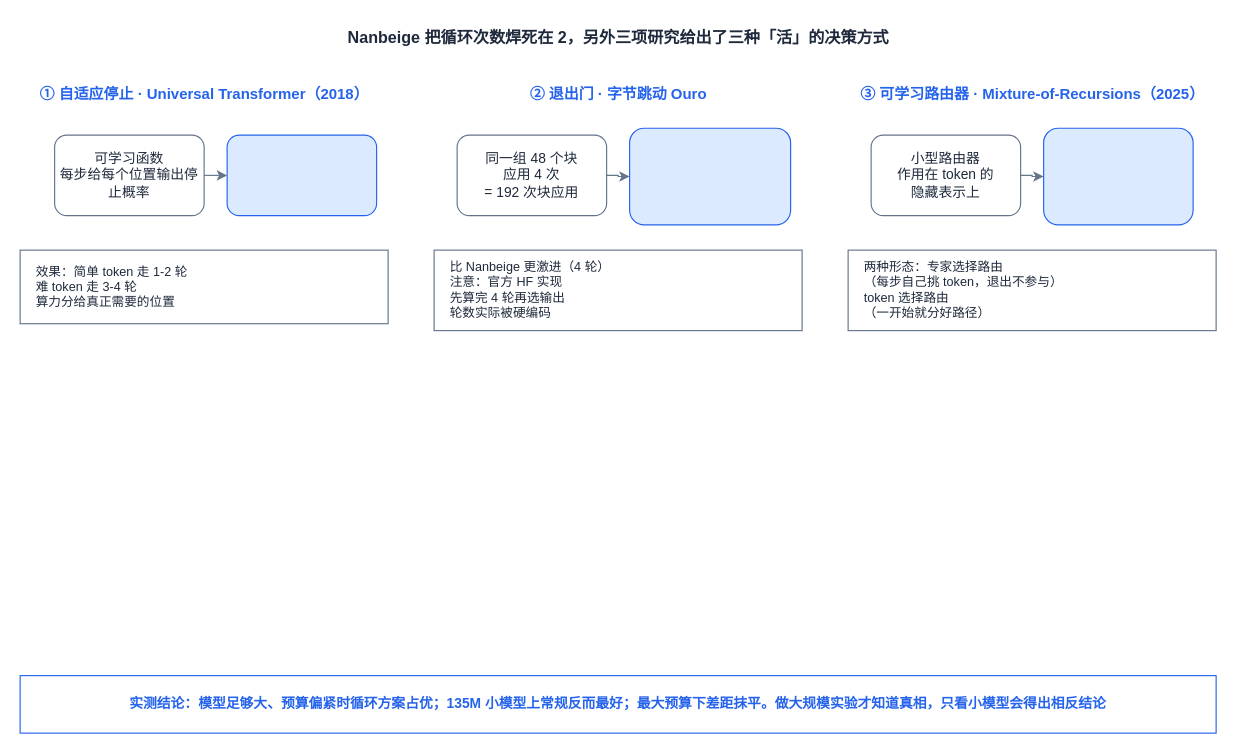
Image size: 1236x753. Some labels were removed from this diagram. Here are the shapes that lost their labels. From the top down, the centre of each, then its label:
At pixel 301 175: "概率跨循环累加 超过阈值就停 （另设最大轮数封顶）".
At pixel 709 176: "学习得到的退出门 给各退出点分配概率 累计概率阈值 决定哪一轮出结果".
At pixel 1117 176: "按 token 决定 共享栈应用几次 （1 / 2 / 3 次） 随上下文变化".
